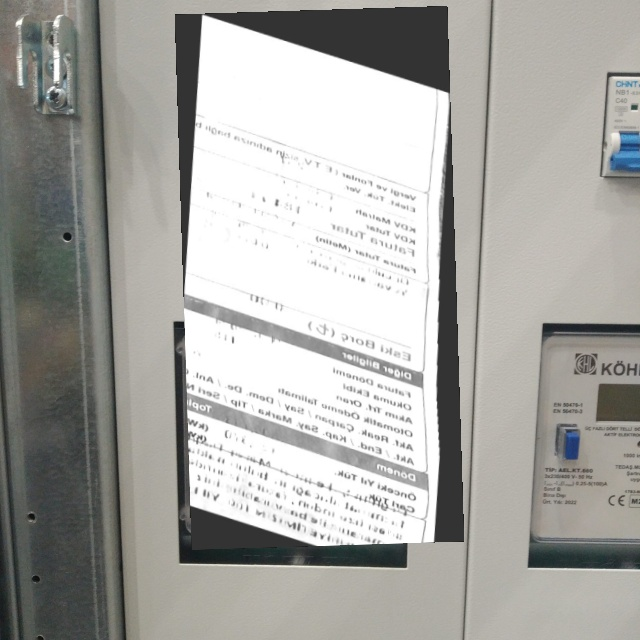electricity-bill: (174, 6, 463, 550)
